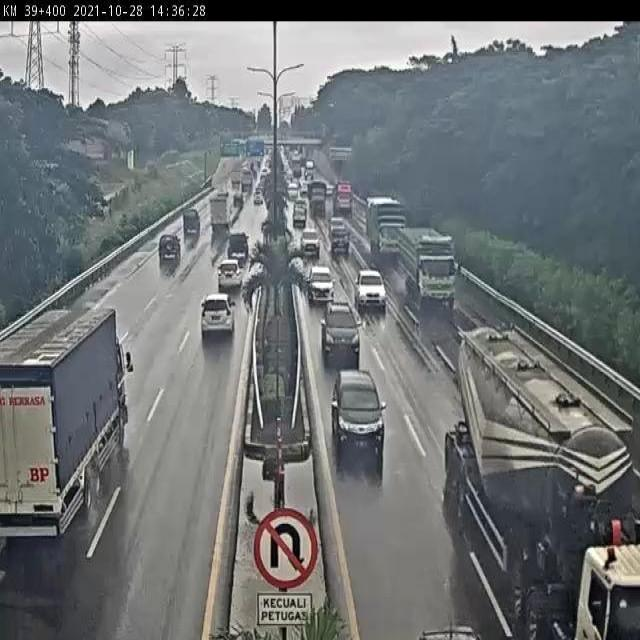big truck: (447, 325, 640, 640), (0, 298, 128, 538), (401, 227, 459, 308), (368, 196, 408, 260), (207, 195, 231, 233)
car: (333, 369, 388, 456), (320, 302, 362, 362), (199, 292, 235, 339), (356, 265, 388, 311), (308, 267, 336, 304), (224, 230, 251, 262), (156, 232, 181, 263), (217, 259, 241, 289), (331, 225, 351, 256), (300, 227, 321, 254), (183, 204, 202, 233), (291, 207, 309, 228), (328, 213, 347, 232)
